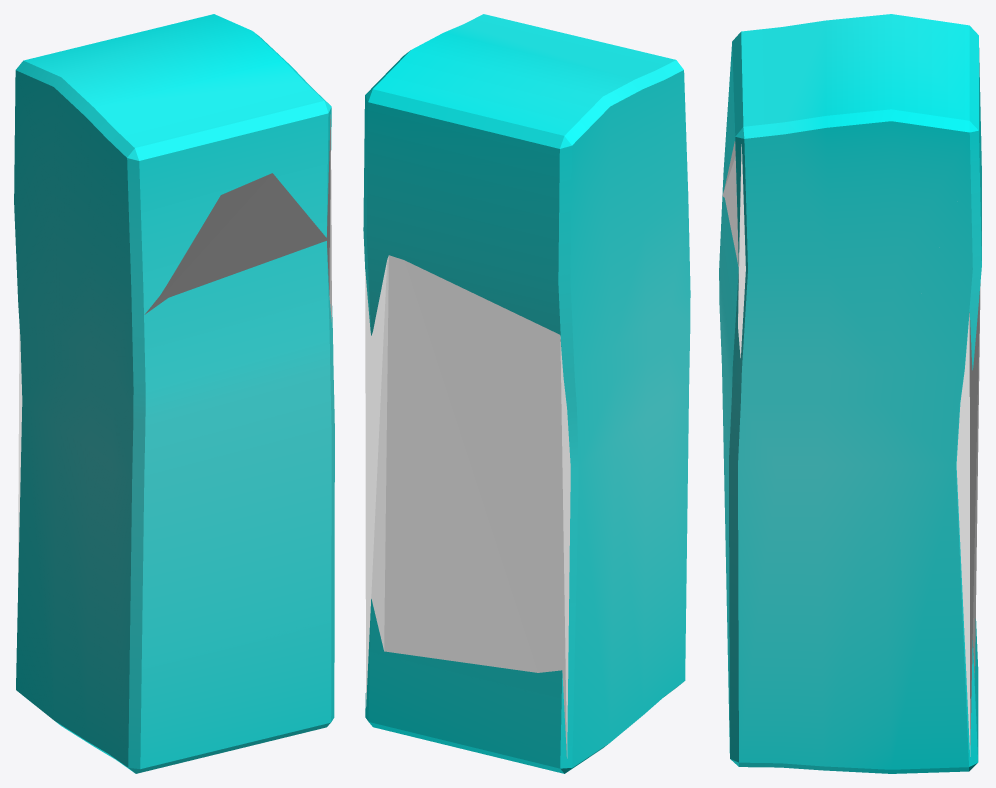
The model's file is SM_WoodenPlanks_10.fbx.
The picture shows the model from 3 angles, left to right: view 1: azimuth 30°, elevation 25°; view 2: azimuth 150°, elevation 25°; view 3: azimuth 270°, elevation 25°; orthographic projection. The views are drawn at different scales.
Parts seen in each view (by area): view 1: SM_WoodenPlanks_10_LOD0, SM_WoodenPlanks_10_ConvexHulls; view 2: SM_WoodenPlanks_10_LOD0, SM_WoodenPlanks_10_ConvexHulls; view 3: SM_WoodenPlanks_10_LOD0, SM_WoodenPlanks_10_ConvexHulls.
Boxes of the visible parts, x1,y1,x2,y2 form: SM_WoodenPlanks_10_LOD0: [14, 14, 334, 773]; SM_WoodenPlanks_10_ConvexHulls: [18, 114, 331, 587]; SM_WoodenPlanks_10_LOD0: [363, 14, 690, 773]; SM_WoodenPlanks_10_ConvexHulls: [365, 255, 570, 758]; SM_WoodenPlanks_10_LOD0: [719, 14, 981, 773]; SM_WoodenPlanks_10_ConvexHulls: [722, 141, 980, 756].
Bounding box in the file's own units: 23.83 × 25.69 × 71.67.
